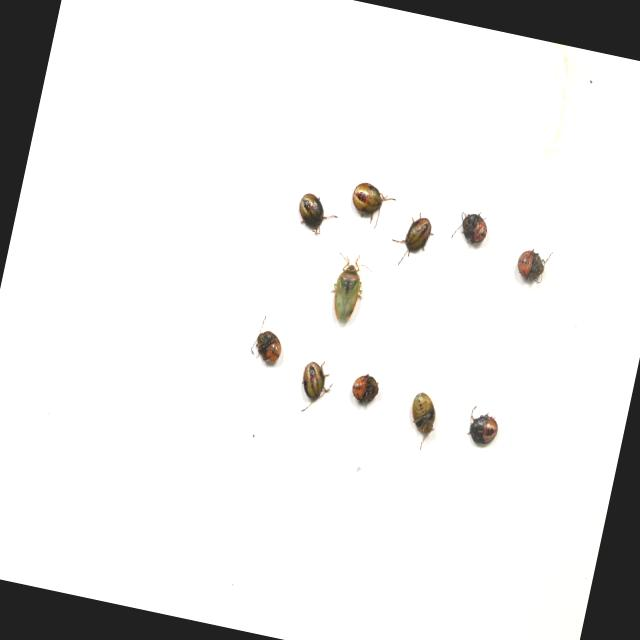stinkbug: (324, 250, 374, 327)
